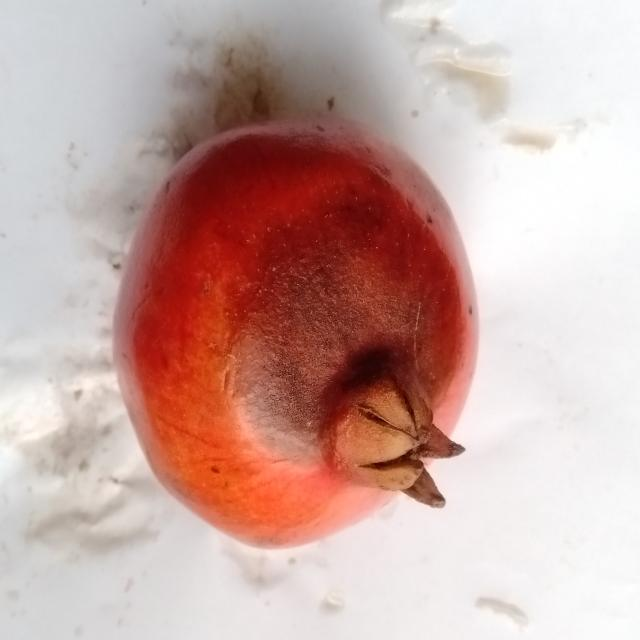Rotten: (106, 109, 485, 557)
